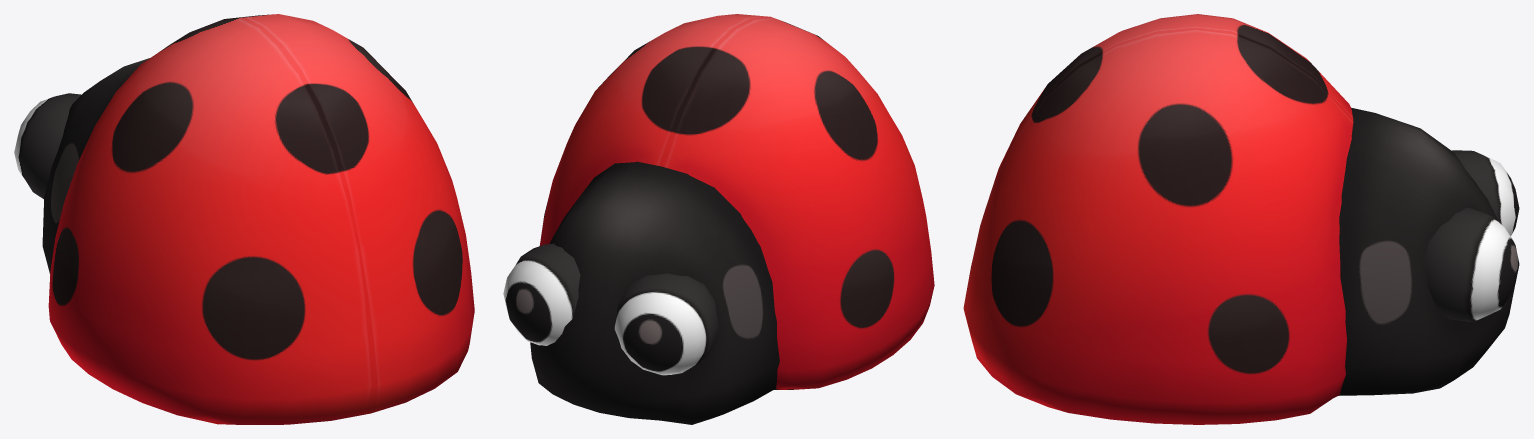
File: CRT0110043.fbx
The picture shows the model from 3 angles, left to right: view 1: azimuth 30°, elevation 25°; view 2: azimuth 150°, elevation 25°; view 3: azimuth 270°, elevation 25°; orthographic projection. The views are drawn at different scales.
Visible parts, largest first — view 1: smCRT0110043; view 2: smCRT0110043; view 3: smCRT0110043.
Boxes of the visible parts, bbox=[...] form: smCRT0110043: bbox=[14, 14, 474, 424]; smCRT0110043: bbox=[503, 14, 934, 424]; smCRT0110043: bbox=[963, 14, 1519, 424].
Size of the model in its own units: 11.23 by 9.36 by 14.5.
Materials: 1 (1 with a texture image).
